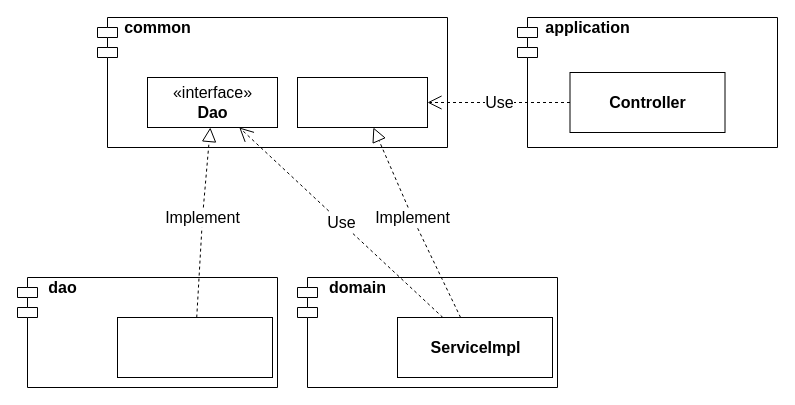
The diagram is 795 pixels wide and 405 high, and some of its shapes have lost their labels. Each missing label, with the centre of its shape:
"DaoImpl" belongs at (x=194, y=347).
"«interface» Service" belongs at (x=362, y=102).
